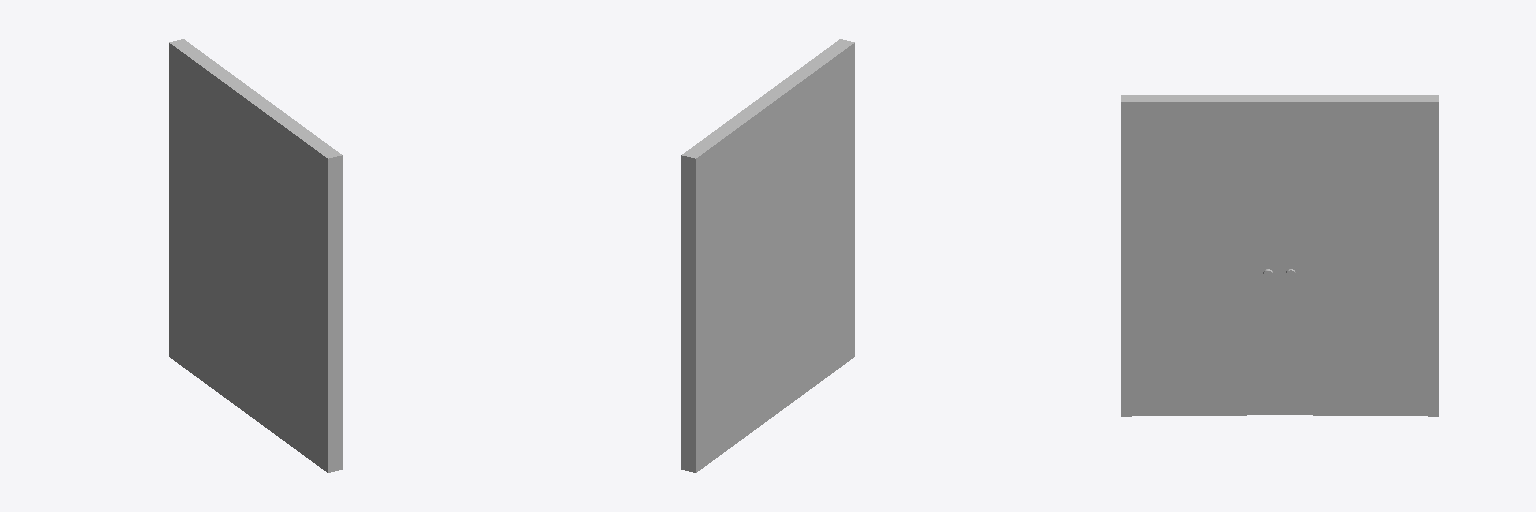
File: DoubleDoor.obj
3 renders of one model, left to right at view 1: azimuth 30°, elevation 25°; view 2: azimuth 150°, elevation 25°; view 3: azimuth 270°, elevation 25°, orthographic.
Visible parts, largest first — view 1: Cube; view 2: Cube; view 3: Cube.
Part boxes in pixels (left/top/right/bottom): Cube: left=169, top=39, right=342, bottom=472; Cube: left=681, top=39, right=854, bottom=472; Cube: left=1121, top=95, right=1438, bottom=416.
Bounding box in the file's own units: 0.15 × 3 × 2.75.